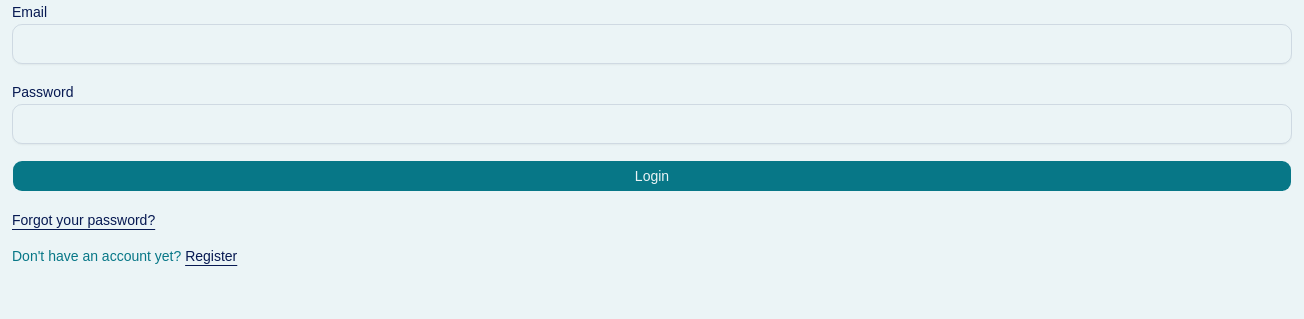
Test: LoginForm › shows fallback server error for generic failure
Type "test@example.com" into the field labelled "Email".
click(652, 44); type("test@example.com")  # box [12,24,1292,64]
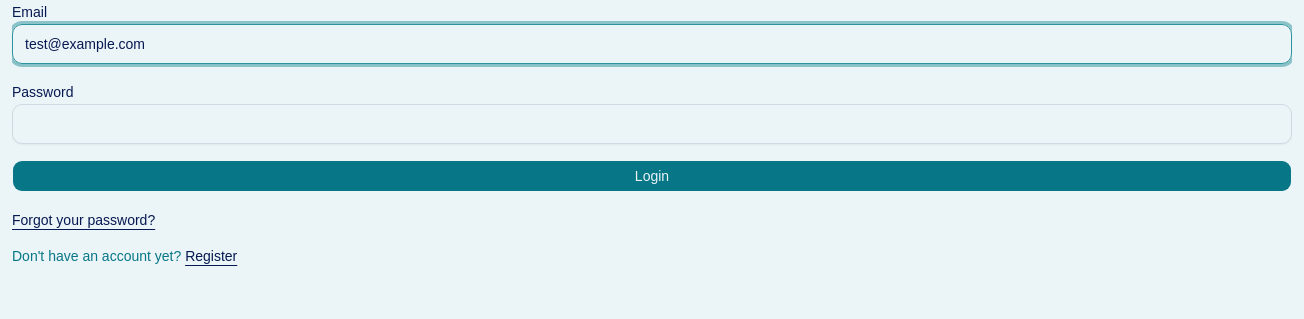
Type "secret123" into the password field labelled "Password".
click(652, 124); type("secret123")  # box [12,104,1292,144]
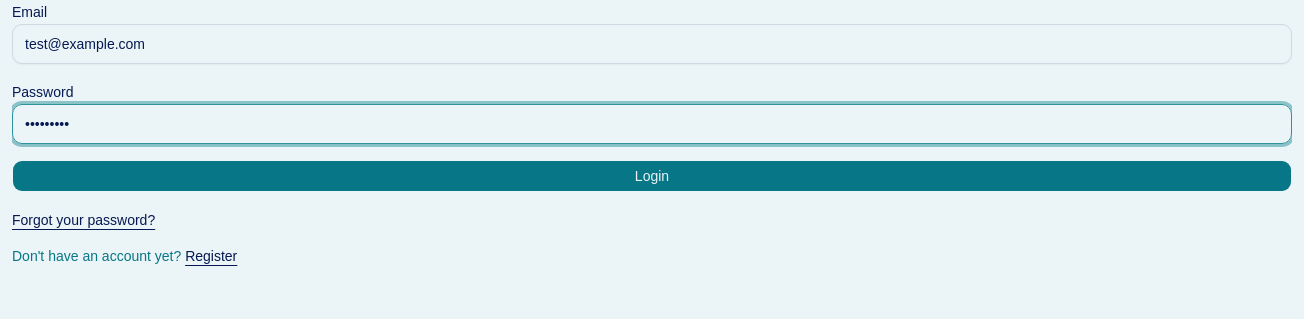
Click the button "Login".
click(652, 176)  # box [12,160,1292,192]
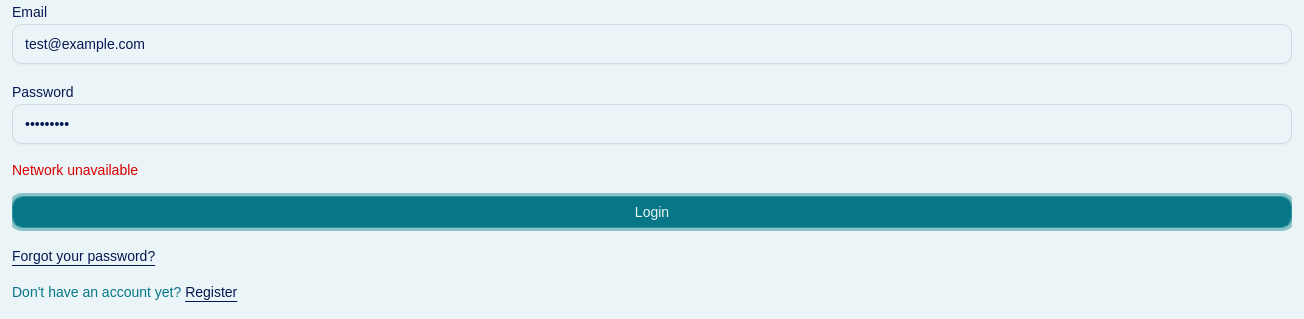
Expected: the text "Network unavailable" is shown, [12,162,138,178]
